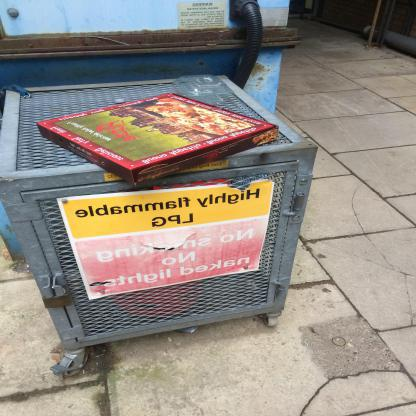karton: (37, 94, 281, 188)
plastik: (174, 76, 236, 106)
